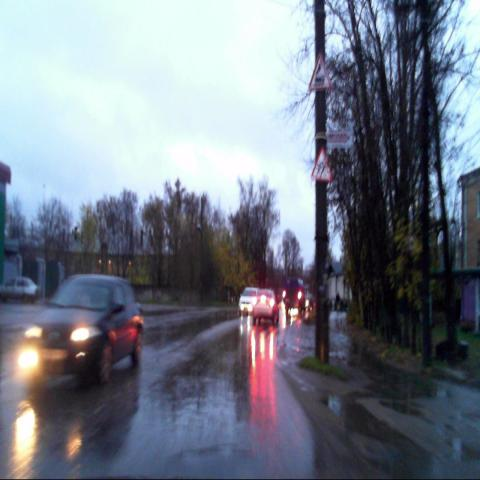1_2: (308, 53, 331, 90)
